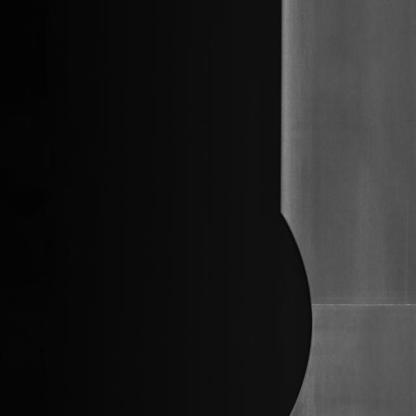crescent_gap: (268, 192, 324, 416)
welding_line: (307, 288, 415, 318)
